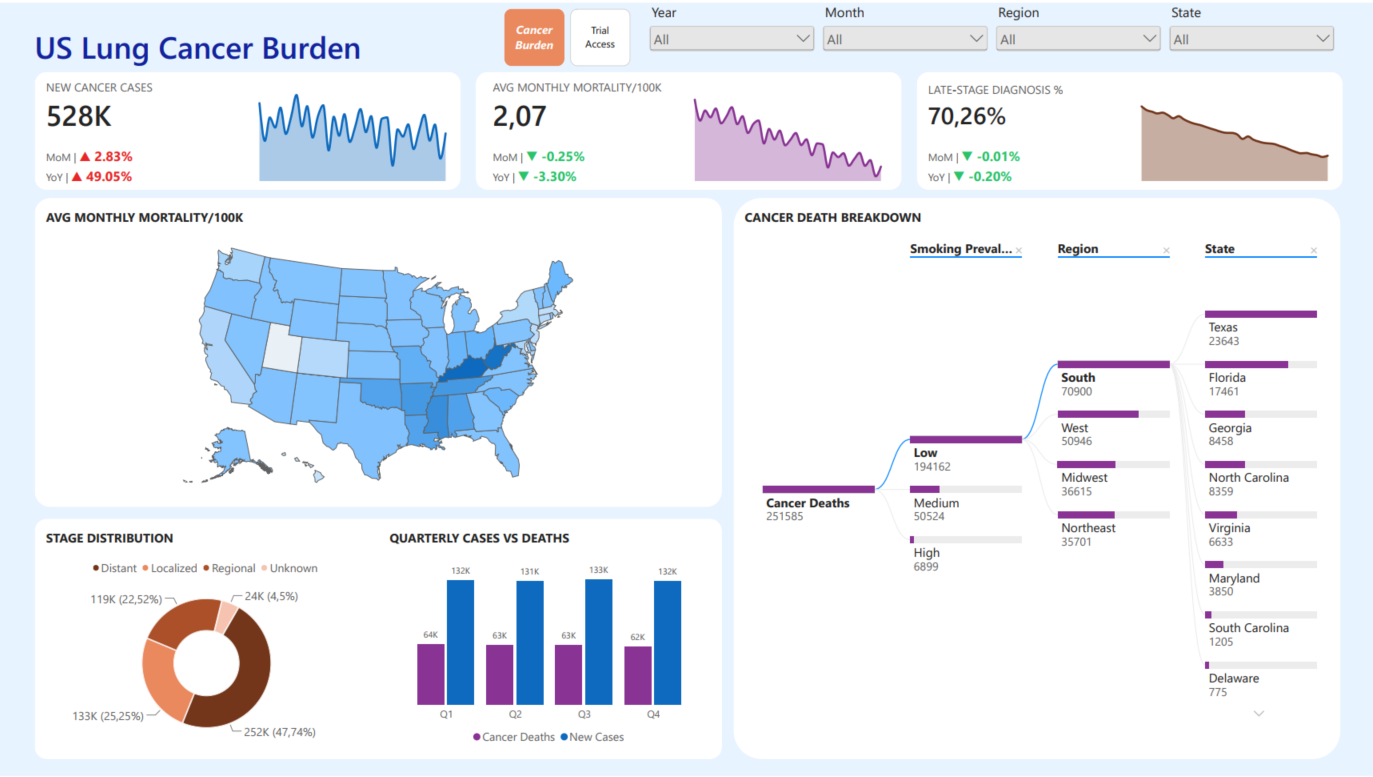

What the dashboard file says about the page in this screenshot:
{"tool":"powerbi","page":{"name":"Cancer Burden","canvas":[1920,1080],"ordinal":0},"visuals":[{"type":"shape","box":[48,96,595,165],"z":0},{"type":"textbox","box":[48,32,496,64],"z":1000},{"type":"shape","box":[664,96,595,165],"z":2000},{"type":"shape","box":[1280,96,595,165],"z":3000},{"type":"shape","box":[48,272,960,432],"z":4000},{"type":"shape","box":[1024,272,848,784],"z":5000},{"type":"shape","box":[48,720,960,336],"z":6000},{"type":"cardVisual","fields":{"Data":["1st_page_measures.New Cancer cases"]},"box":[48,96,360,168],"z":7000},{"type":"lineChart","fields":{"Category":["Dim_Date.Date"],"Y":["1st_page_measures.New Cancer cases"]},"box":[336,96,312,168],"z":8000},{"type":"cardVisual","fields":{"Data":["1st_page_measures.Mortality/100k"]},"box":[672,96,360,168],"z":9000},{"type":"lineChart","fields":{"Category":["Dim_Date.Date"],"Y":["1st_page_measures.Mortality/100k"]},"box":[944,96,312,168],"z":10000},{"type":"cardVisual","fields":{"Data":["1st_page_measures.Last Stage Diagnosis %"]},"box":[1280,96,360,168],"z":11000},{"type":"lineChart","fields":{"Category":["Dim_Date.Date"],"Y":["1st_page_measures.Last Stage Diagnosis %"]},"box":[1568,96,312,168],"z":12000},{"type":"slicer","fields":{"Values":["Dim_Date.Year"]},"box":[902.1,0,240,96],"z":13000},{"type":"slicer","fields":{"Values":["Dim_Date.Month_Name"]},"box":[1143.9,0,240,96],"z":14000},{"type":"slicer","fields":{"Values":["Dim_State.Region"]},"box":[1385.7,0,240,96],"z":15000},{"type":"slicer","fields":{"Values":["Dim_State.Canonical_State"]},"box":[1627.5,0,240,96],"z":16000},{"type":"donutChart","title":"STAGE DISTRIBUTION","fields":{"Y":["1st_page_measures.Stage_cases"],"Category":["Dim_Stage.Stage"]},"box":[48,720,480,336],"z":17000},{"type":"clusteredColumnChart","title":"QUARTERLY CASES VS DEATHS","fields":{"Category":["Dim_Date.Quarter"],"Y":["1st_page_measures.Cancer_Deaths","1st_page_measures.New Cancer cases"]},"box":[528,720,480,336],"z":18000},{"type":"shapeMap","title":"AVG MONTHLY MORTALITY/100K","fields":{"Category":["Dim_State.Canonical_State"],"Value":["1st_page_measures.Mortality/100k"]},"box":[48,272,960,432],"z":19000},{"type":"decompositionTreeVisual","title":"CANCER DEATH BREAKDOWN","fields":{"Analyze":["1st_page_measures.Cancer_Deaths"],"ExplainBy":["Fact_Cancer.Smoking_Prevalence_Band","Dim_State.Region","Dim_State.Canonical_State"]},"box":[1024,272,848,784],"z":20000},{"type":"pageNavigator","box":[704,8,176,80],"z":21000}]}

Visuals, with their boxes in screenshot pixels (x1, y1, x2, y2), scaled from the page's 1920x1080 canvas onto the 1373x777 screenshot:
shape: <region>34, 69, 460, 188</region>
textbox: <region>34, 23, 389, 69</region>
shape: <region>475, 69, 900, 188</region>
shape: <region>915, 69, 1341, 188</region>
shape: <region>34, 196, 721, 506</region>
shape: <region>732, 196, 1339, 760</region>
shape: <region>34, 518, 721, 760</region>
cardVisual - 1st_page_measures.New Cancer cases: <region>34, 69, 292, 190</region>
lineChart - Dim_Date.Date x 1st_page_measures.New Cancer cases: <region>240, 69, 463, 190</region>
cardVisual - 1st_page_measures.Mortality/100k: <region>481, 69, 738, 190</region>
lineChart - Dim_Date.Date x 1st_page_measures.Mortality/100k: <region>675, 69, 898, 190</region>
cardVisual - 1st_page_measures.Last Stage Diagnosis %: <region>915, 69, 1173, 190</region>
lineChart - Dim_Date.Date x 1st_page_measures.Last Stage Diagnosis %: <region>1121, 69, 1344, 190</region>
slicer - Dim_Date.Year: <region>645, 0, 817, 69</region>
slicer - Dim_Date.Month_Name: <region>818, 0, 990, 69</region>
slicer - Dim_State.Region: <region>991, 0, 1163, 69</region>
slicer - Dim_State.Canonical_State: <region>1164, 0, 1335, 69</region>
"STAGE DISTRIBUTION" donutChart: <region>34, 518, 378, 760</region>
"QUARTERLY CASES VS DEATHS" clusteredColumnChart: <region>378, 518, 721, 760</region>
"AVG MONTHLY MORTALITY/100K" shapeMap: <region>34, 196, 721, 506</region>
"CANCER DEATH BREAKDOWN" decompositionTreeVisual: <region>732, 196, 1339, 760</region>
pageNavigator: <region>503, 6, 629, 63</region>
